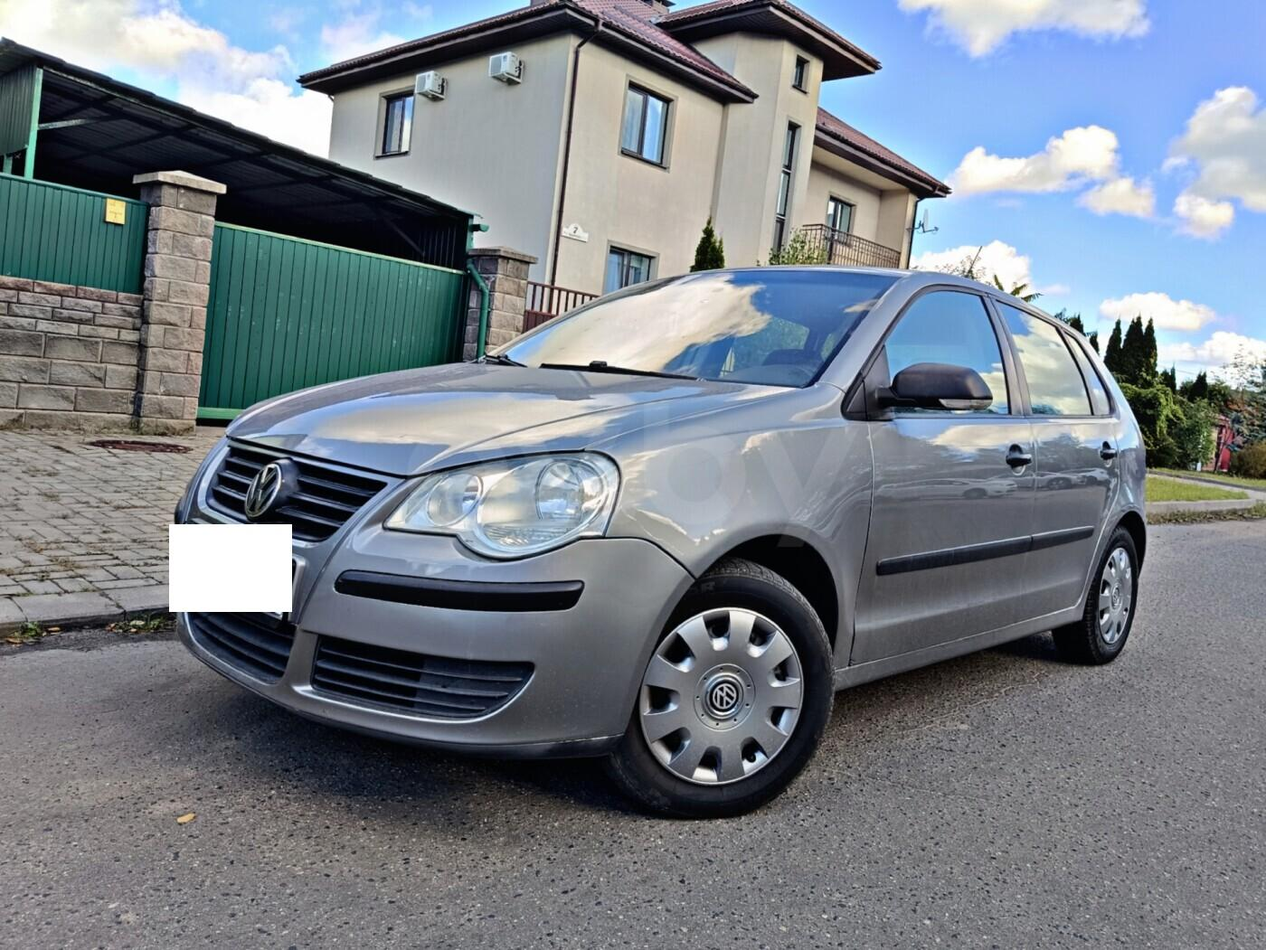Polo_2005-2009: (137, 263, 1154, 824)
